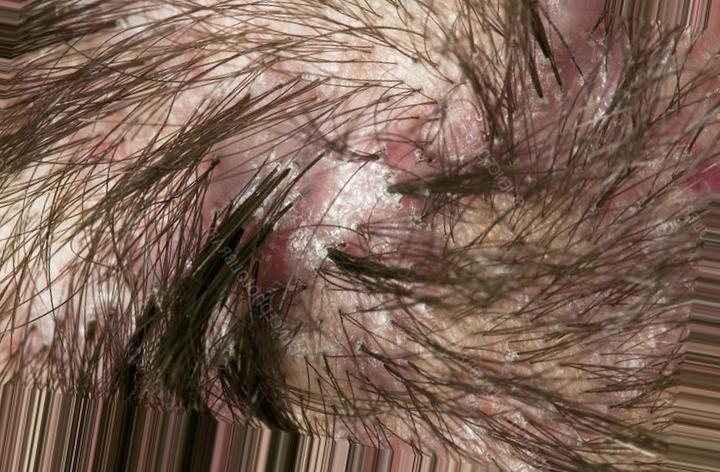Folliculitis: (109, 36, 453, 301)
